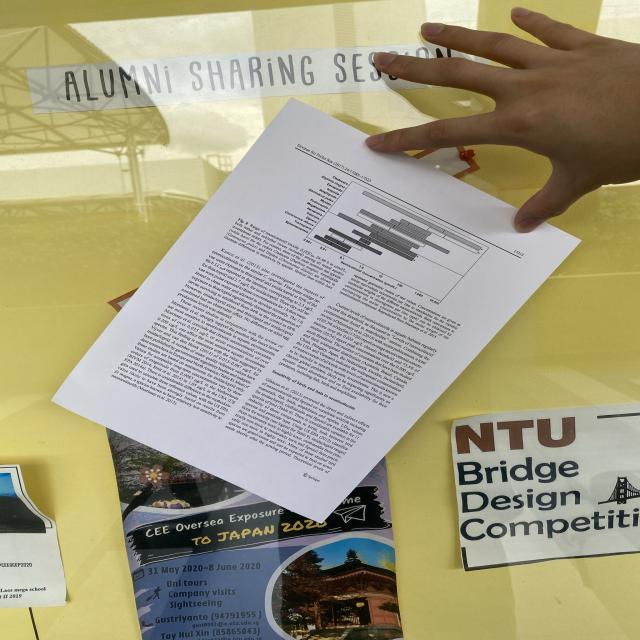document: (53, 99, 578, 521), (452, 402, 640, 570)
